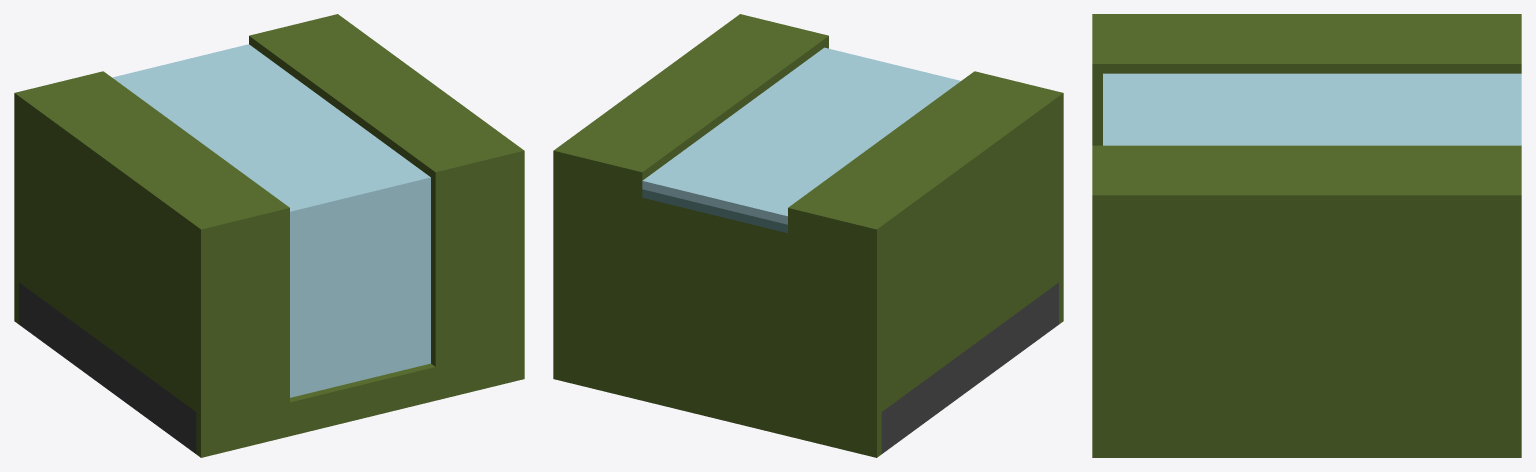
Rendered from river101.obj.
3 views of the same model, side by side, from view 1: azimuth 30°, elevation 25°; view 2: azimuth 150°, elevation 25°; view 3: azimuth 270°, elevation 25° (orthographic). The views are drawn at different scales.
Bounding box in the file's own units: 4 × 2.7 × 4.
Materials: 1 (1 with a texture image).
